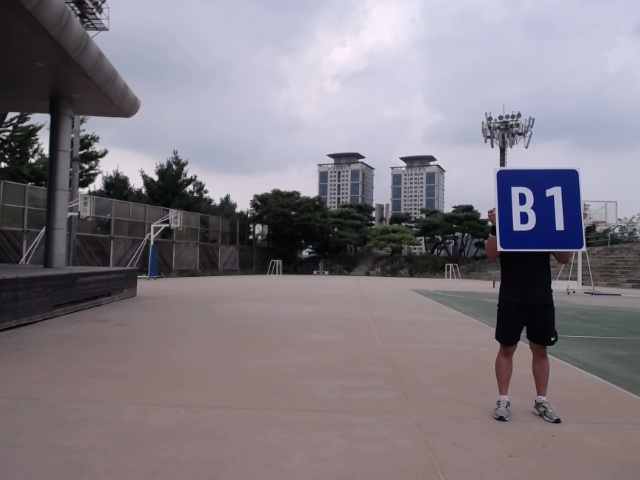delivery_b1: (494, 168, 586, 251)
